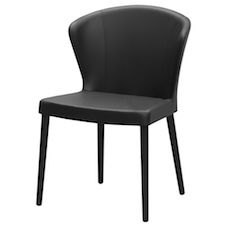chair: (33, 4, 191, 225)
